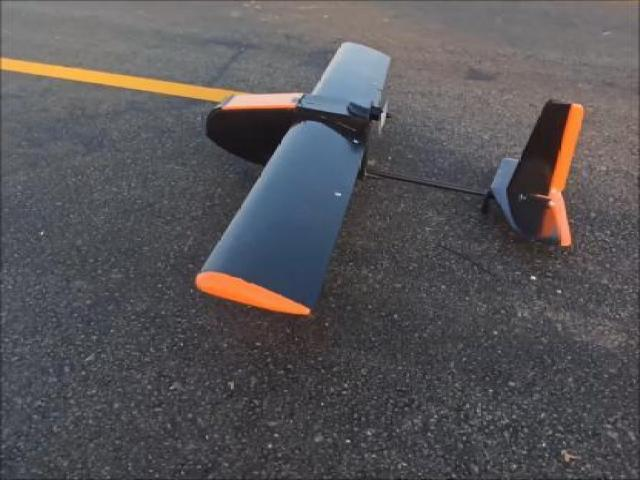uav: (177, 33, 591, 337)
